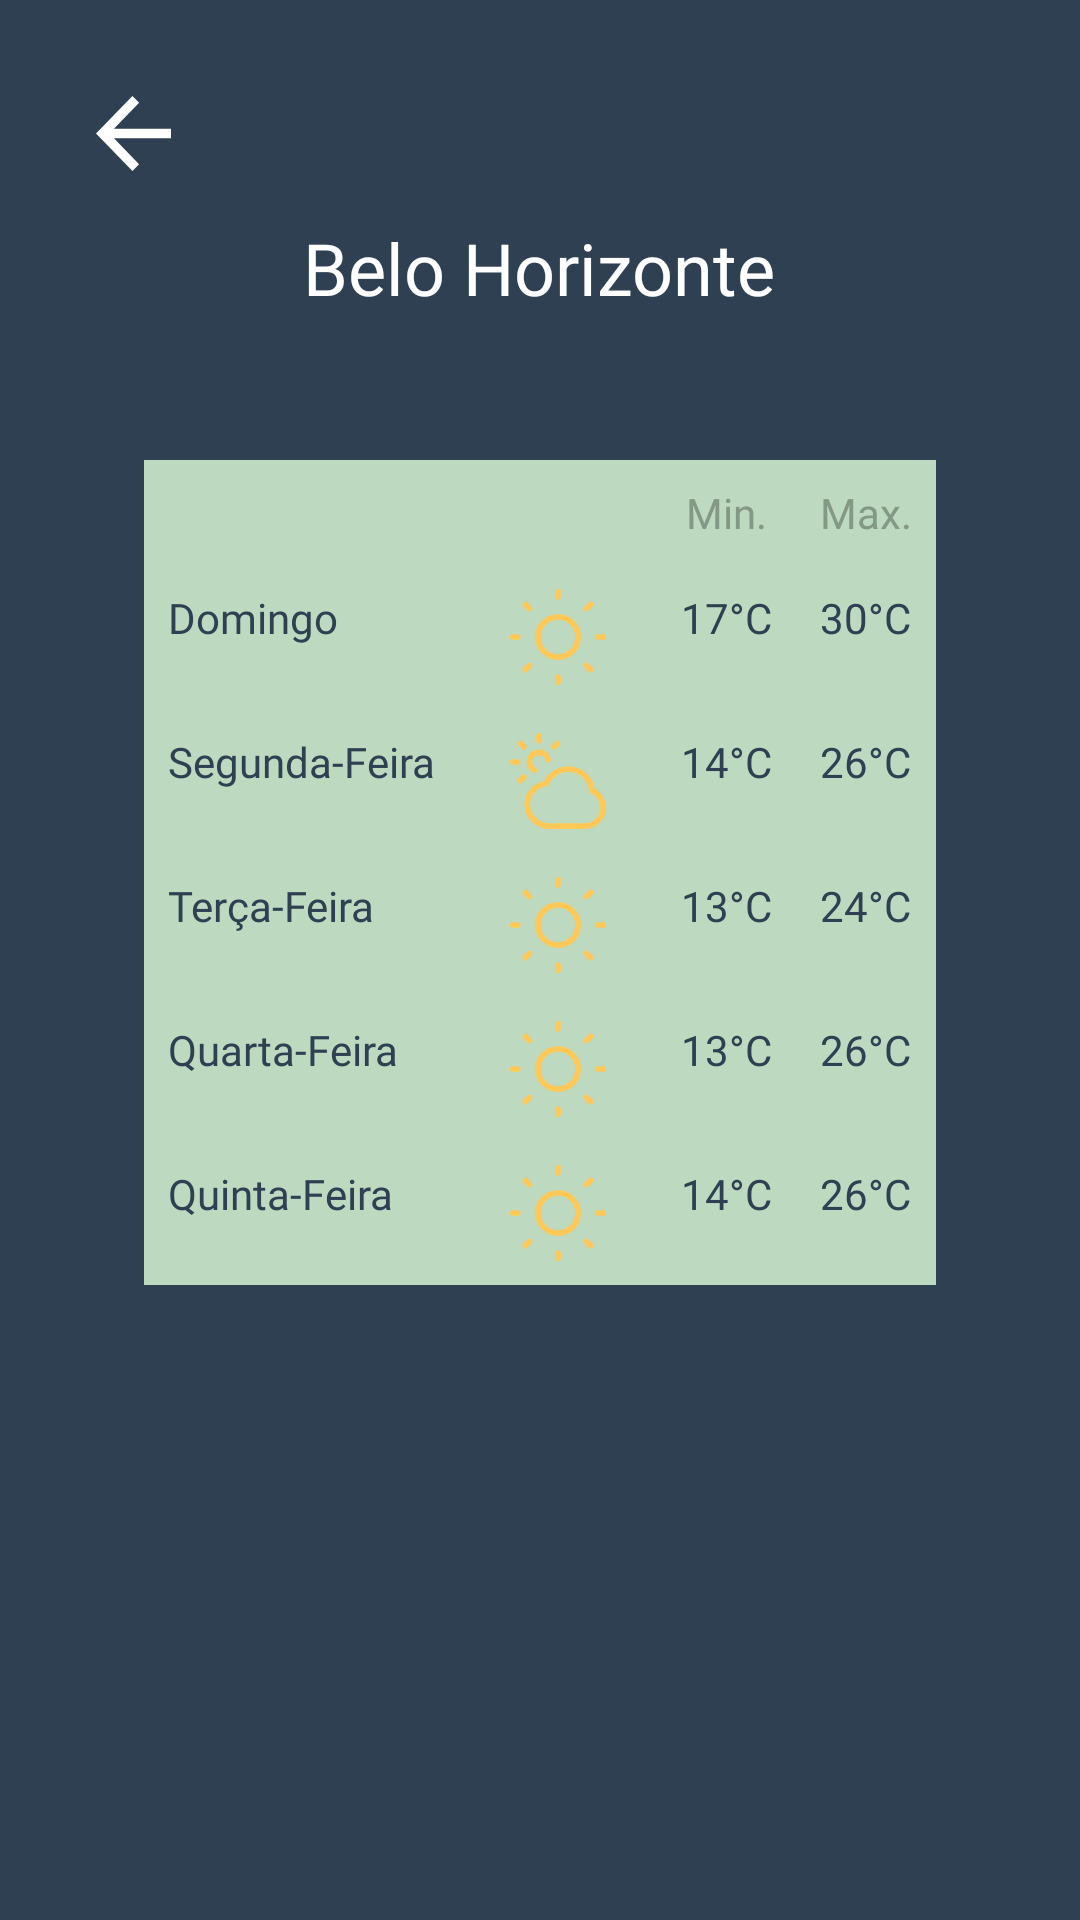

Locate icon controls on the screen. Image size 1080x1920, boxes as bbox=[x1, y1, x2, y2].
backbutton: bbox=[96, 96, 171, 171]
cloudysun: bbox=[510, 733, 606, 829]
sun: bbox=[510, 589, 606, 685], bbox=[510, 877, 606, 973], bbox=[510, 1021, 606, 1117], bbox=[510, 1165, 606, 1261]
